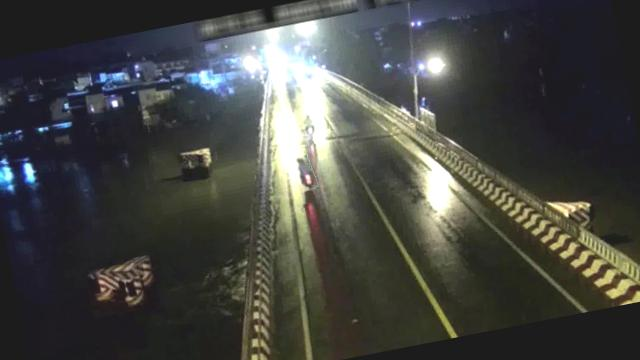Bike: (293, 154, 318, 192), (300, 113, 318, 141)
